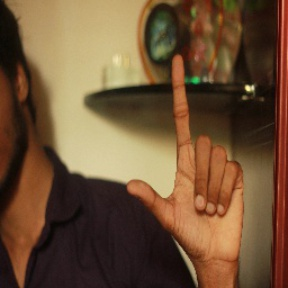L: (120, 53, 247, 261)
